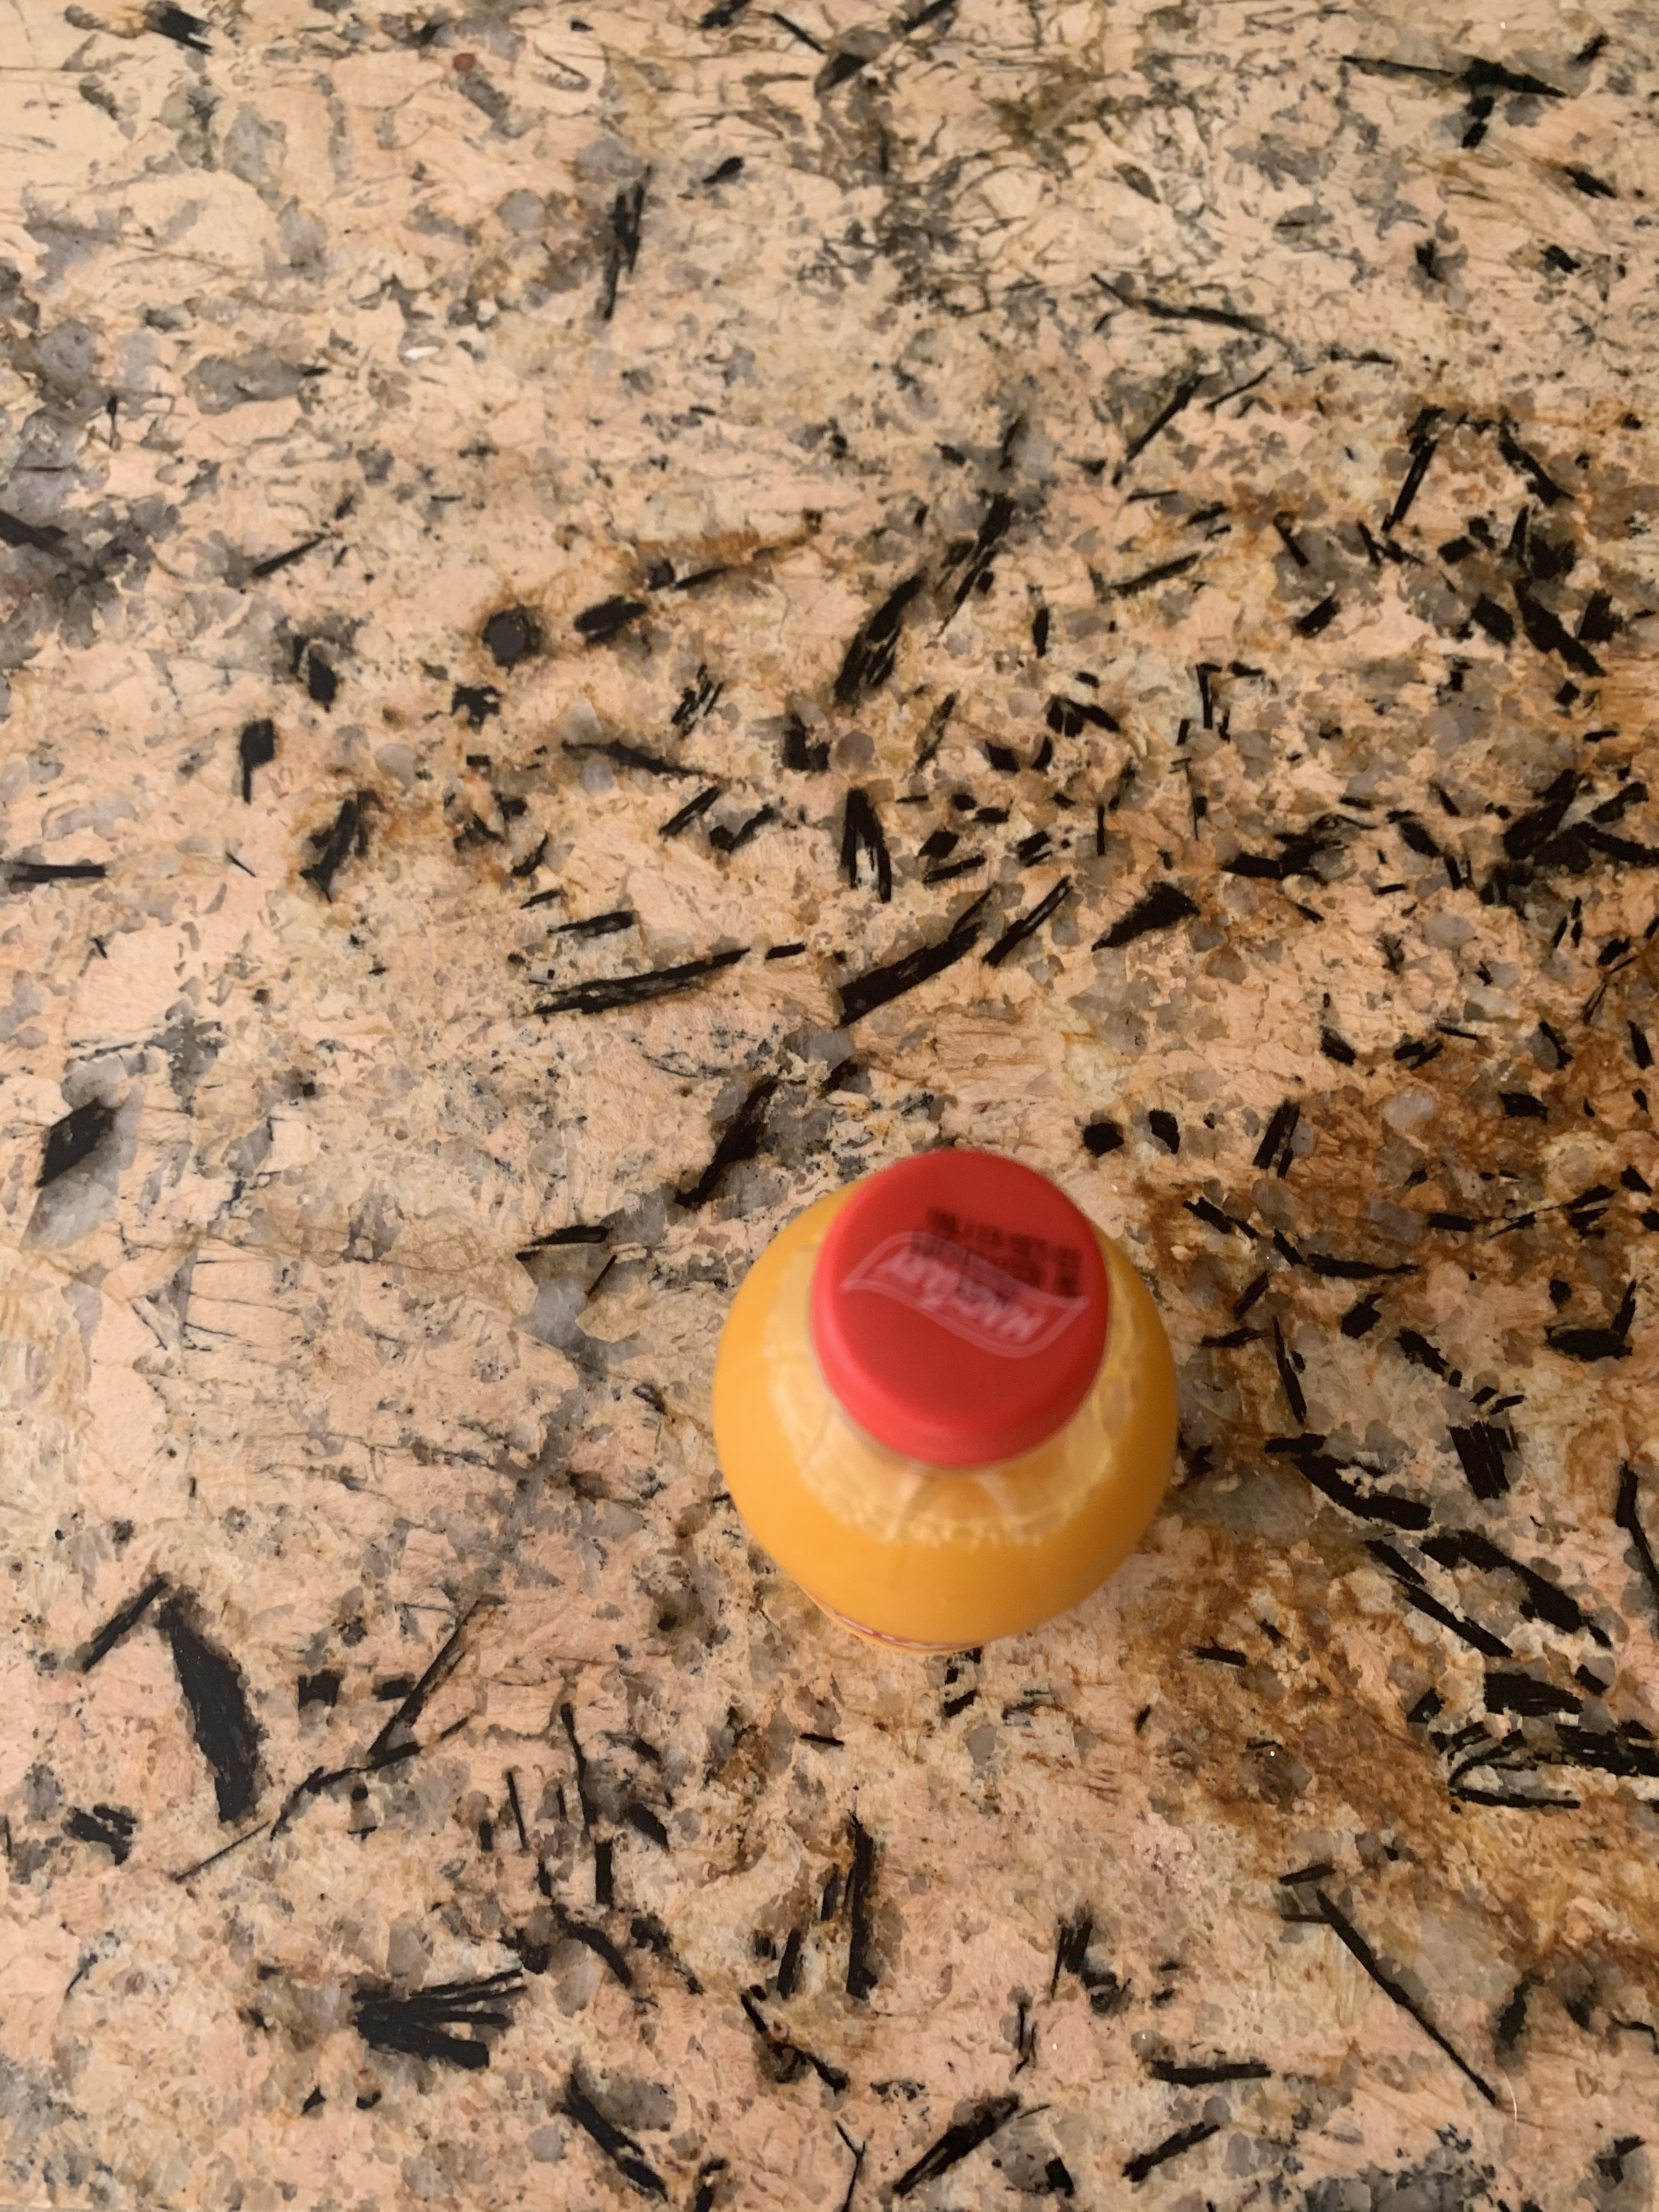maguary: (617, 1082, 1241, 1662)
